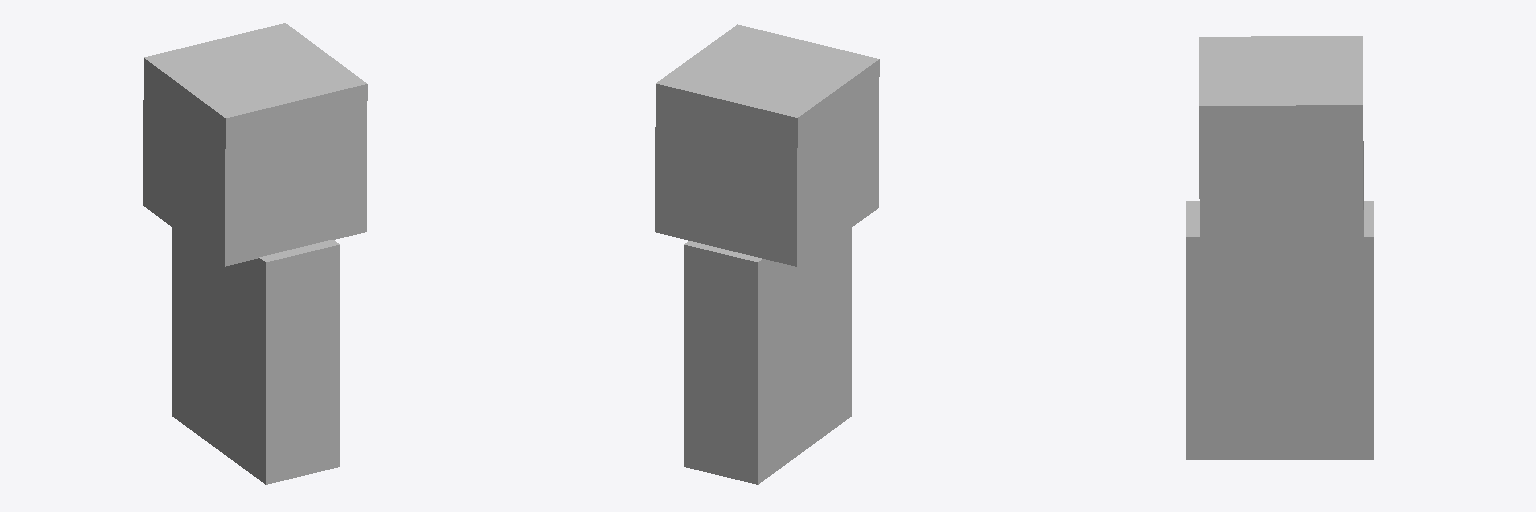
Rendered from HeadBody.obj.
3 views of the same model, side by side, from view 1: azimuth 30°, elevation 25°; view 2: azimuth 150°, elevation 25°; view 3: azimuth 270°, elevation 25° (orthographic).
Visible parts, largest first — view 1: Mesh polySurface6, polySurface5 Mesh; view 2: Mesh polySurface6, polySurface5 Mesh; view 3: polySurface5 Mesh, Mesh polySurface6.
Part boxes in pixels (x1,y1,x2,y2): Mesh polySurface6: (143, 23, 367, 266); polySurface5 Mesh: (172, 228, 339, 484); Mesh polySurface6: (655, 24, 879, 266); polySurface5 Mesh: (684, 228, 851, 484); polySurface5 Mesh: (1186, 201, 1373, 459); Mesh polySurface6: (1199, 36, 1363, 254).
Bounding box in the file's own units: 1.42 × 3.55 × 1.63.